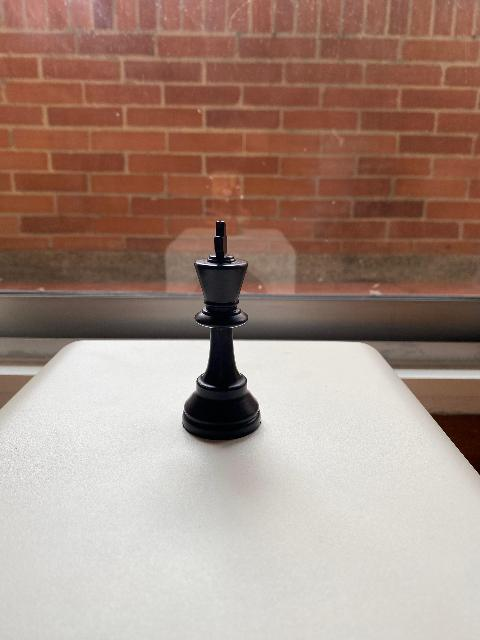black-king: (180, 220, 262, 440)
